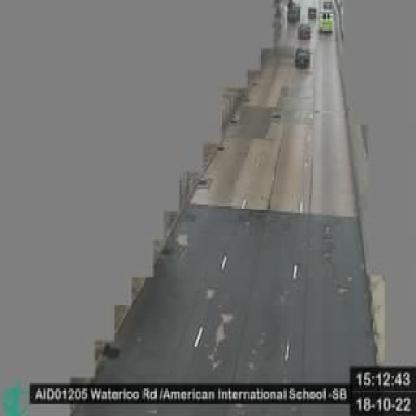Car: (295, 44, 311, 70), (298, 20, 311, 38)
